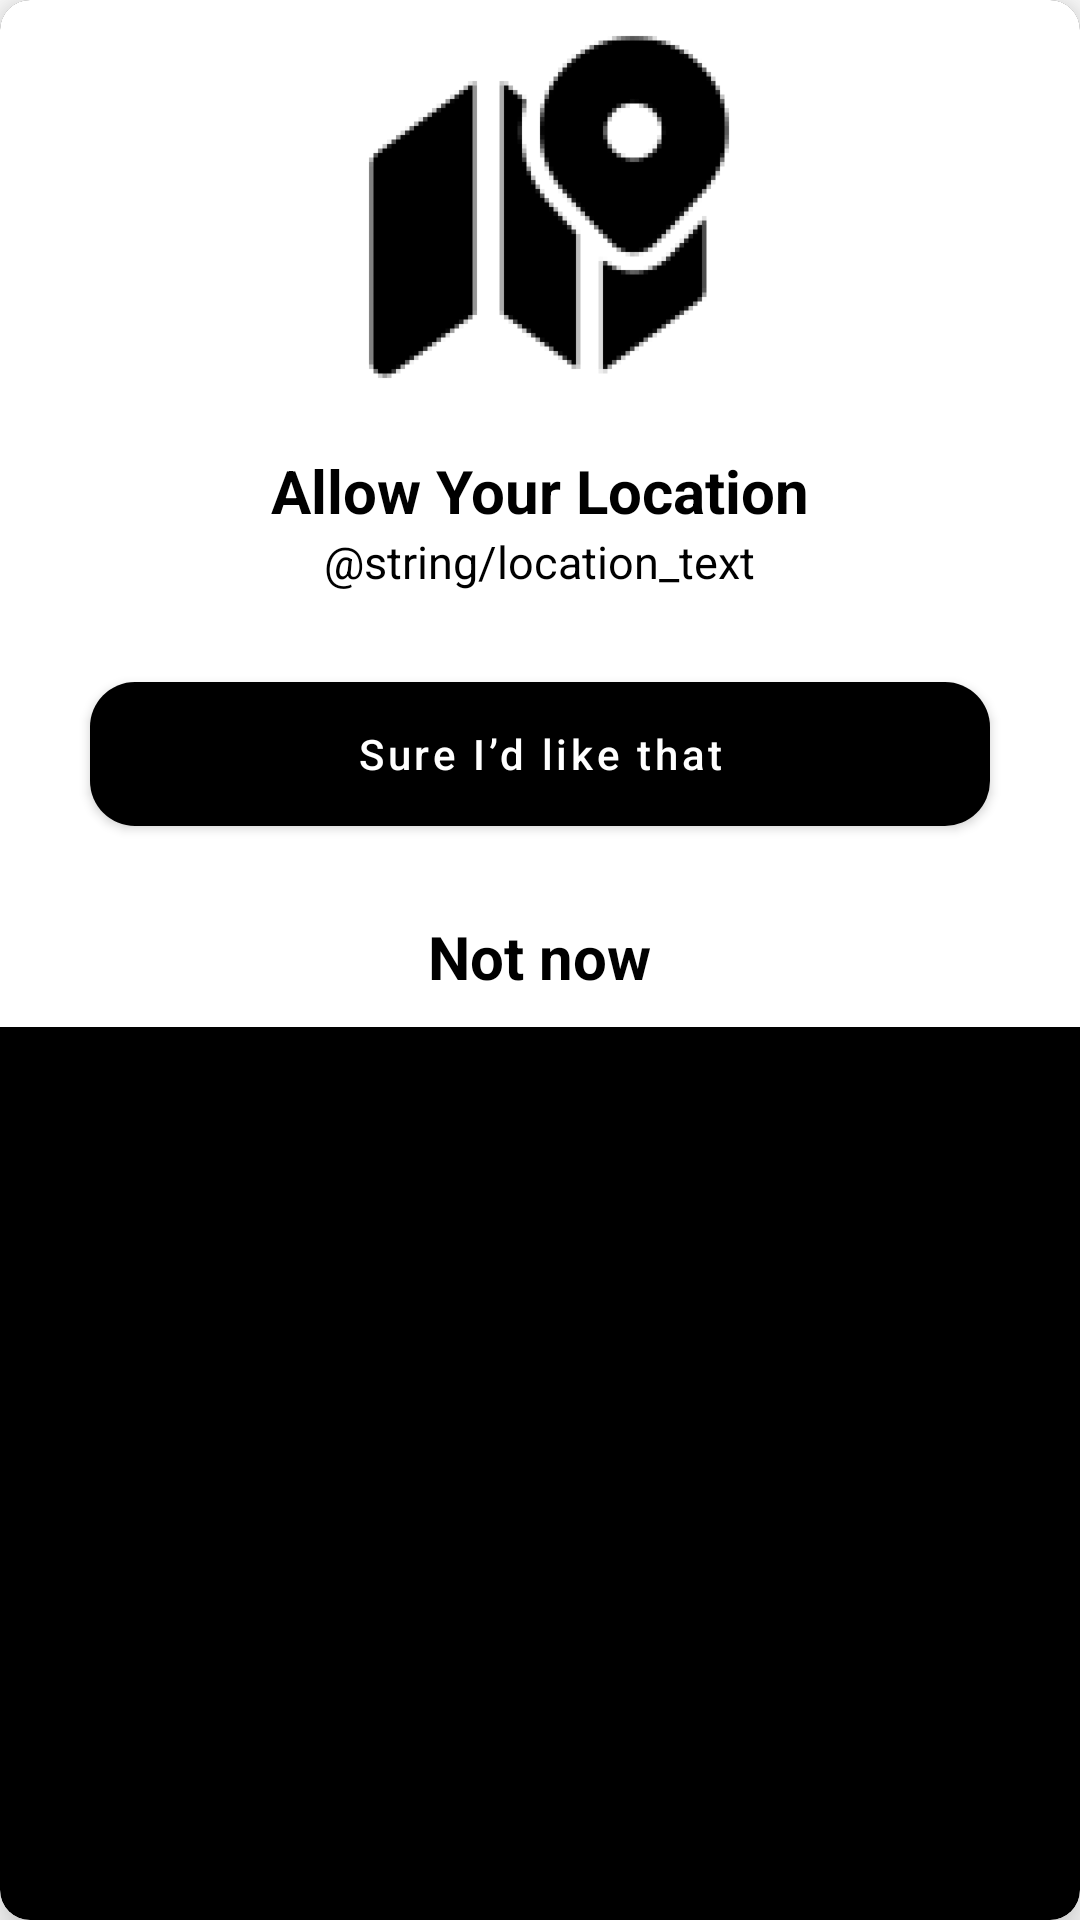

Icons on this 1080px x 1920px Android screen, each with its box as (x1, y1, x2, y2):
mapmaker: (369, 36, 729, 378)
